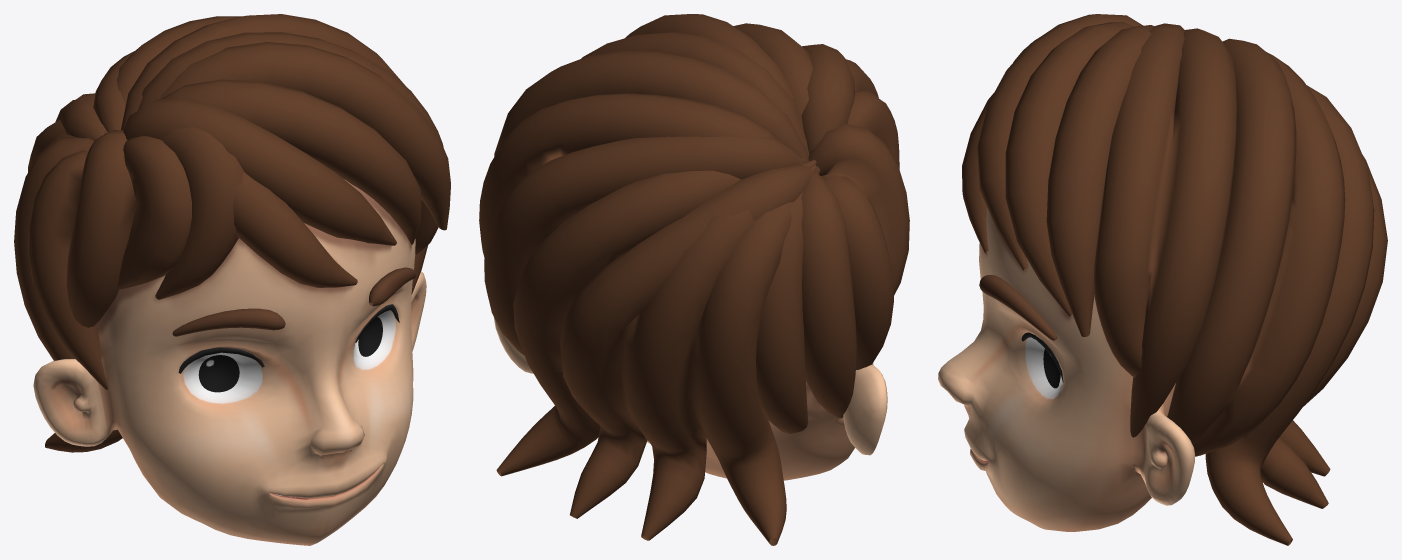
The model's file is KidCalm.glb.
3 renders of one model, left to right at view 1: azimuth 30°, elevation 25°; view 2: azimuth 150°, elevation 25°; view 3: azimuth 270°, elevation 25°, orthographic. The views are drawn at different scales.
Visible parts, largest first — view 1: BézierCurve.010, Cube.001, Cube.003; view 2: BézierCurve.010, Cube.001; view 3: BézierCurve.010, Cube.001.
Part boxes in pixels (x1=…): BézierCurve.010: x1=14, y1=14, x2=450, y2=452; Cube.001: x1=33, y1=179, x2=426, y2=545; Cube.003: x1=178, y1=304, x2=399, y2=373; BézierCurve.010: x1=479, y1=14, x2=909, y2=545; Cube.001: x1=494, y1=317, x2=887, y2=480; BézierCurve.010: x1=962, y1=14, x2=1387, y2=545; Cube.001: x1=938, y1=208, x2=1194, y2=531.
Bounding box in the file's own units: 0.479 × 0.5414 × 0.4585.
3 materials, 2 textured.
